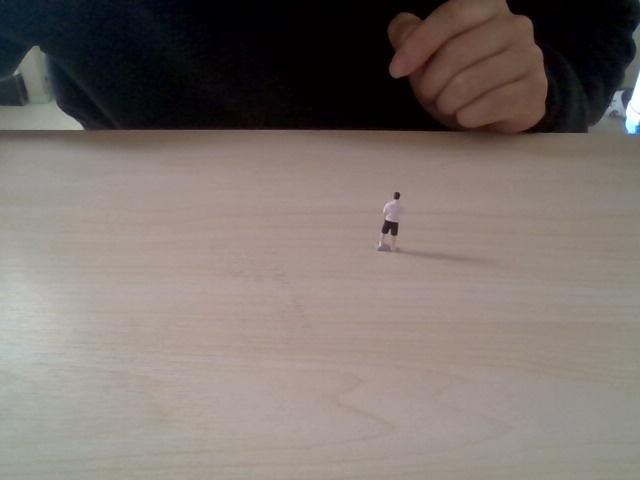walk: (375, 188, 405, 252)
